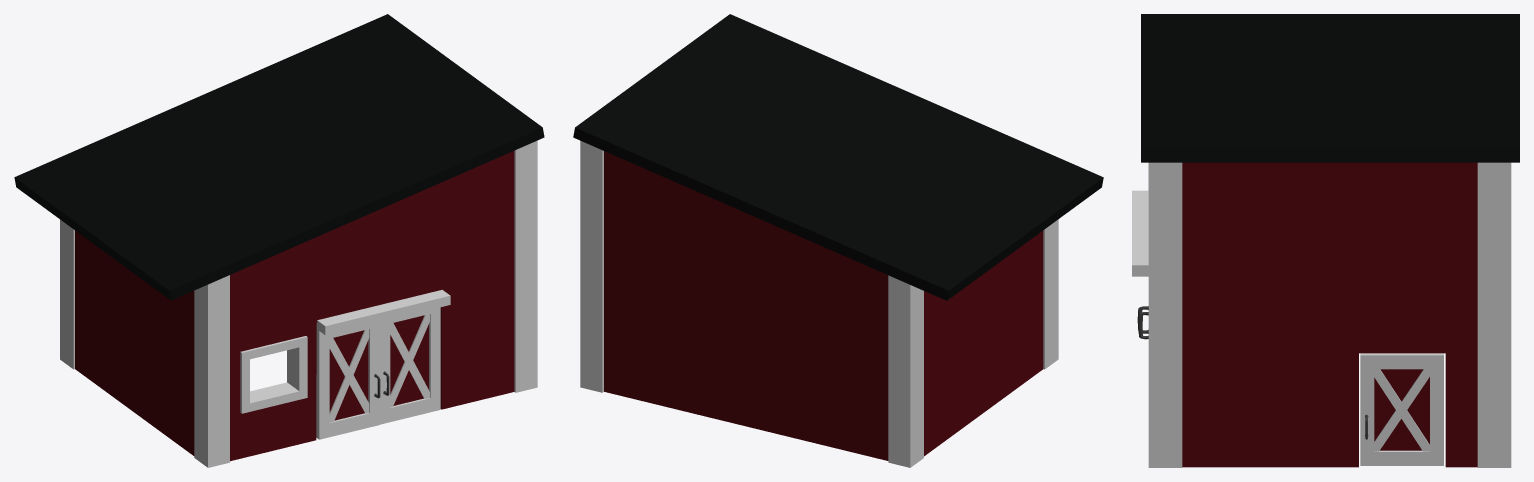
File: MSH_Granero.FBX
3 views of the same model, side by side, from view 1: azimuth 30°, elevation 25°; view 2: azimuth 150°, elevation 25°; view 3: azimuth 270°, elevation 25° (orthographic). The views are drawn at different scales.
Visible parts, largest first — view 1: Box162, Door_2_Granero, Door_1_Granero; view 2: Box162; view 3: Box162, Door_3_Granero.
Boxes of the visible parts, x1=… form: Box162: x1=14, y1=14, x2=544, y2=467; Door_2_Granero: x1=316, y1=322, x2=380, y2=439; Door_1_Granero: x1=380, y1=307, x2=440, y2=424; Box162: x1=573, y1=14, x2=1103, y2=467; Box162: x1=1132, y1=14, x2=1519, y2=467; Door_3_Granero: x1=1360, y1=353, x2=1443, y2=465.
Size of the model in its own units: 948 by 628 by 689.
